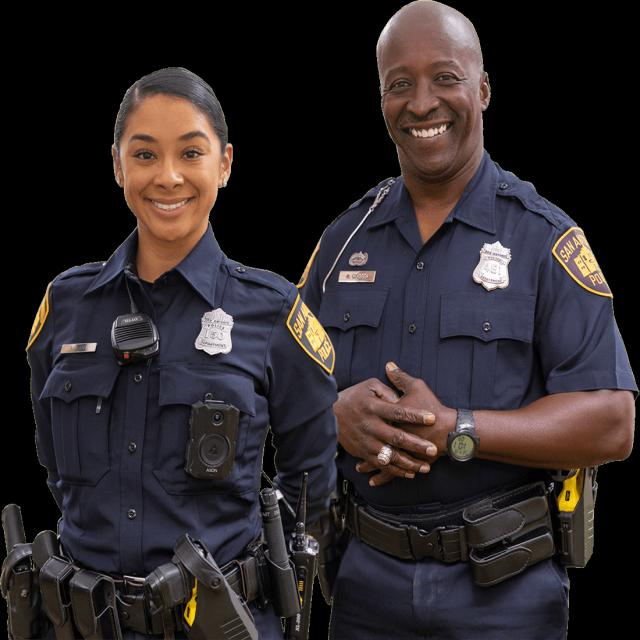police: (323, 0, 639, 640), (11, 73, 337, 640)
